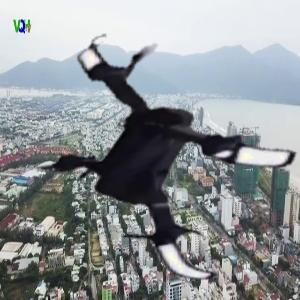drone: (7, 5, 299, 297)
